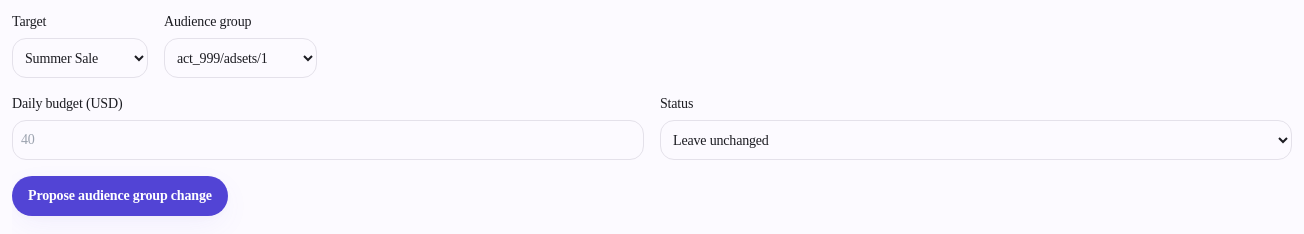
Test: AutomationProposeMetaAdSetEditForm › shows an inline error and does not submit for a non-positive budget
Type "0" into the number field labelled "Daily budget (USD)" at x=328, y=140, box [12,120,644,160]
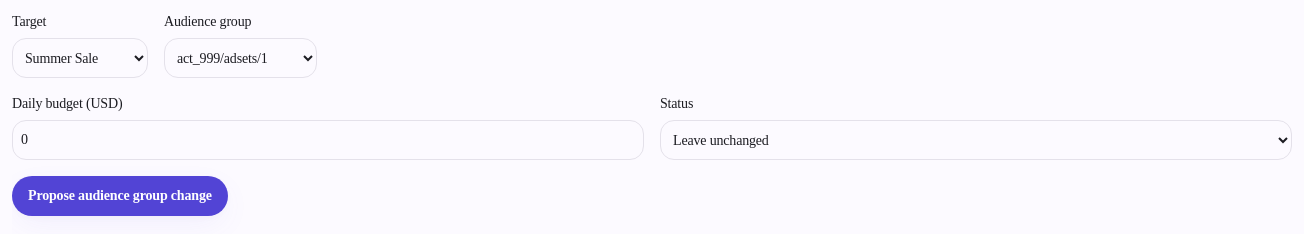
Click the button "Propose audience group change" at x=120, y=196, box [12,176,228,216]
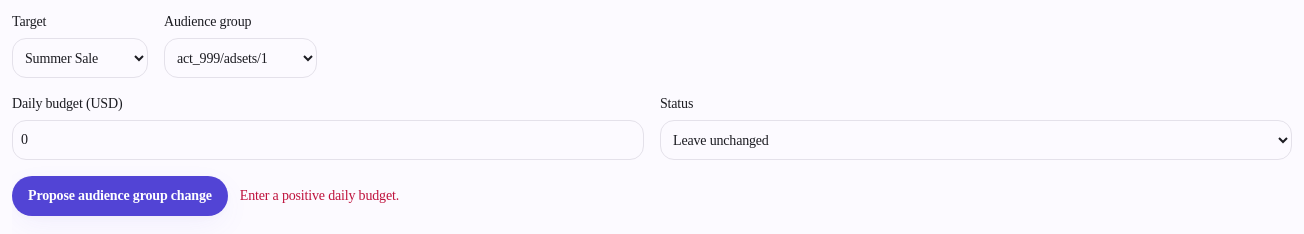
Expected: the message reads "Enter a positive daily budget.", [240,188,399,203]
